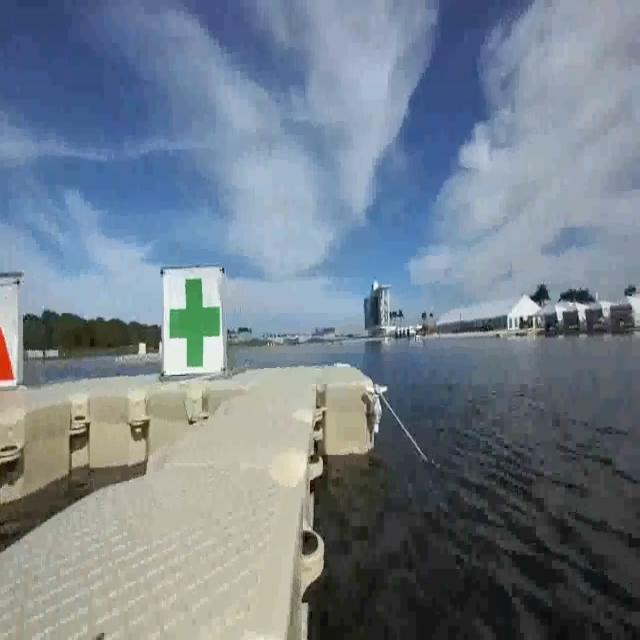blue-cross: (161, 276, 225, 380)
